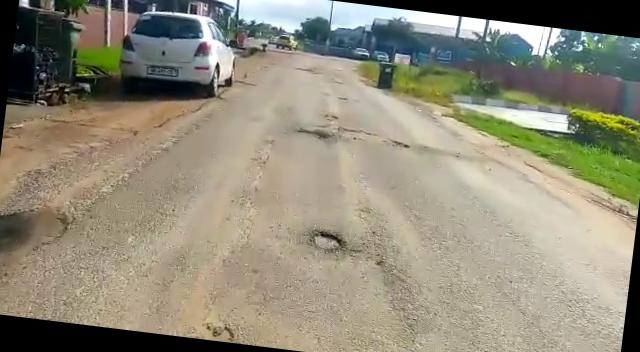pothole: (337, 126, 412, 151), (305, 226, 348, 254), (295, 124, 334, 140)
